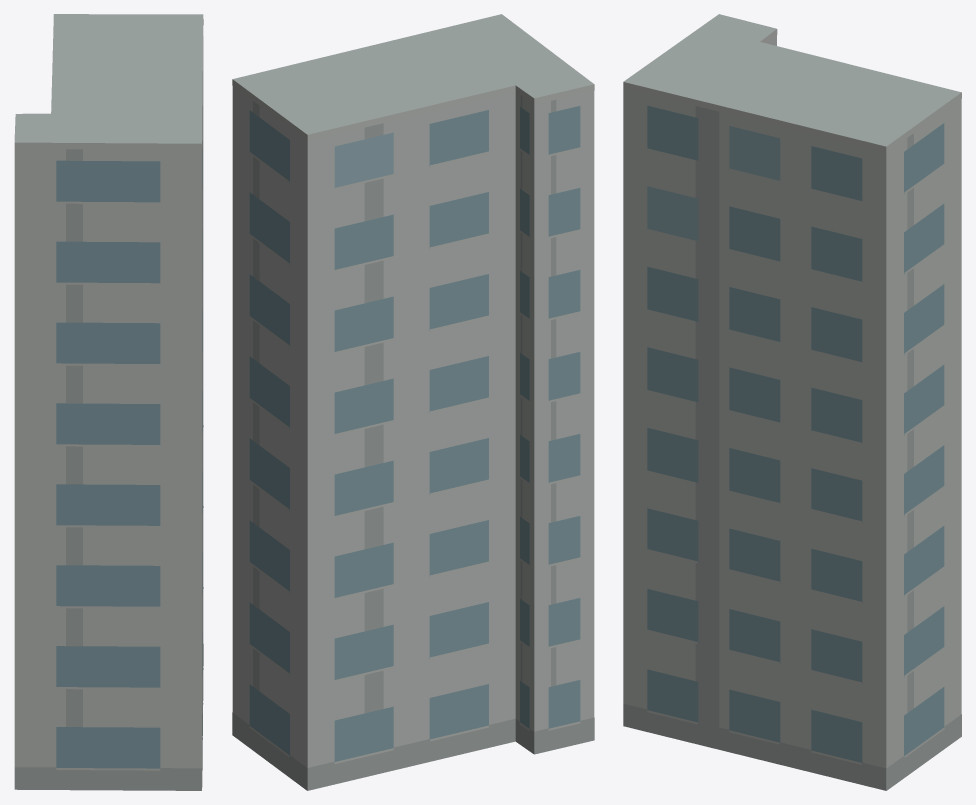
Rendered from survey-upis-32787675.glb.
3 renders of one model, left to right at view 1: azimuth 30°, elevation 25°; view 2: azimuth 150°, elevation 25°; view 3: azimuth 270°, elevation 25°, orthographic.
Visible parts, largest first — view 1: survey-upis-32787675.tmp; view 2: survey-upis-32787675.tmp; view 3: survey-upis-32787675.tmp.
Boxes of the visible parts, <box> form: survey-upis-32787675.tmp: <box>14,14,203,790</box>; survey-upis-32787675.tmp: <box>232,14,594,790</box>; survey-upis-32787675.tmp: <box>623,14,961,790</box>.
Size of the model in its own units: 11.04 by 25 by 11.91.
